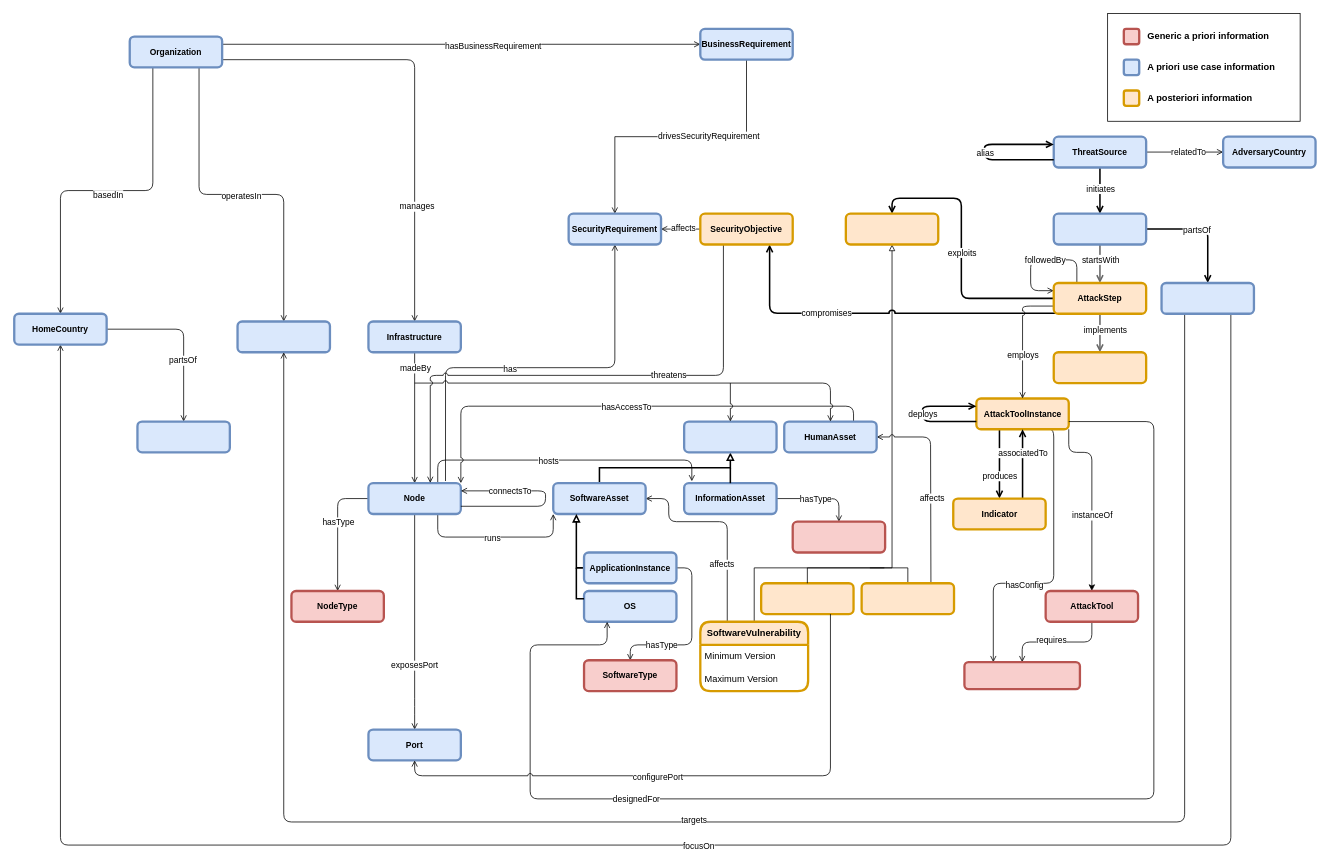
The diagram is 1330 pixels wide and 865 high, and some of its shapes have lost their labels. Each missing label, with the centre of its shape:
Asset: point (730, 436)
AttackToolConfiguration: point (1022, 675)
Campaign/ThreatScenario: point (1207, 298)
ConfigVulnerability: point (807, 598)
HumanVulnerability: point (907, 598)
International Body: point (183, 436)
ResourceType: point (838, 536)
Sector: point (283, 336)
ThreatEvent: point (1099, 228)
TTP: point (1099, 367)
Vulnerability: point (891, 228)
